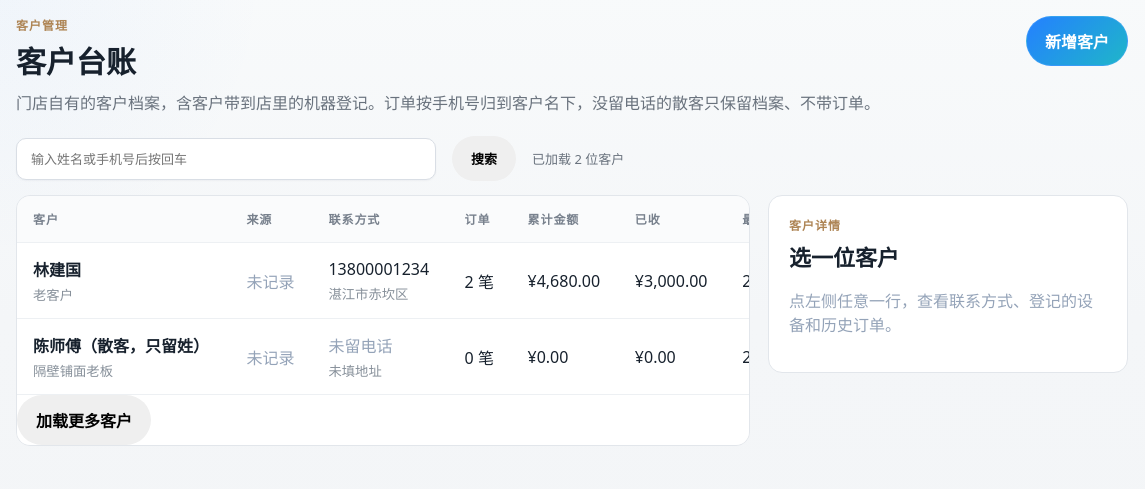
Test case: 客户台账列表 › 客户超过一页时按游标追加下一页
The image size is (1145, 489).
Expected: the text "林建国" is shown, [33, 259, 81, 281]
Step 1. Click the button "加载更多客户" → coordinates (84, 420), box [17, 395, 151, 445]
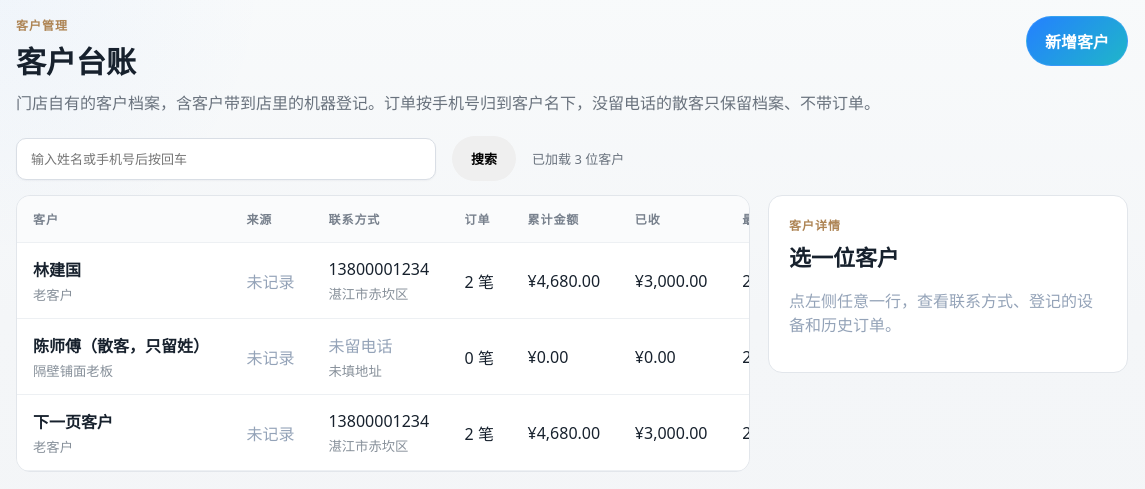
Expected: the text "下一页客户" is shown, [33, 411, 113, 433]
